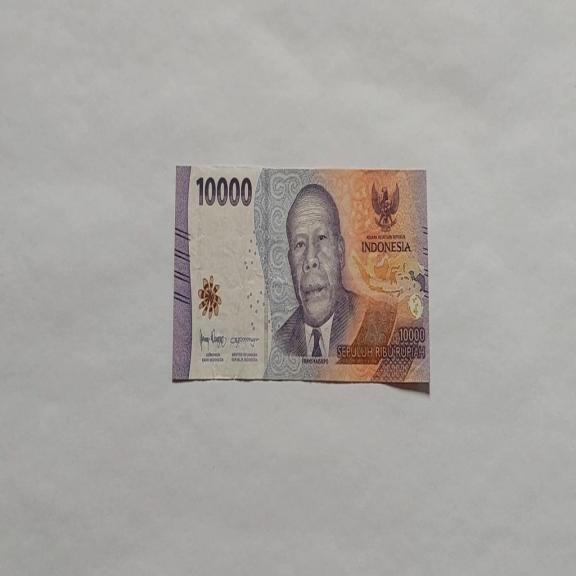Kertas: (172, 162, 430, 388), (195, 173, 253, 209)
